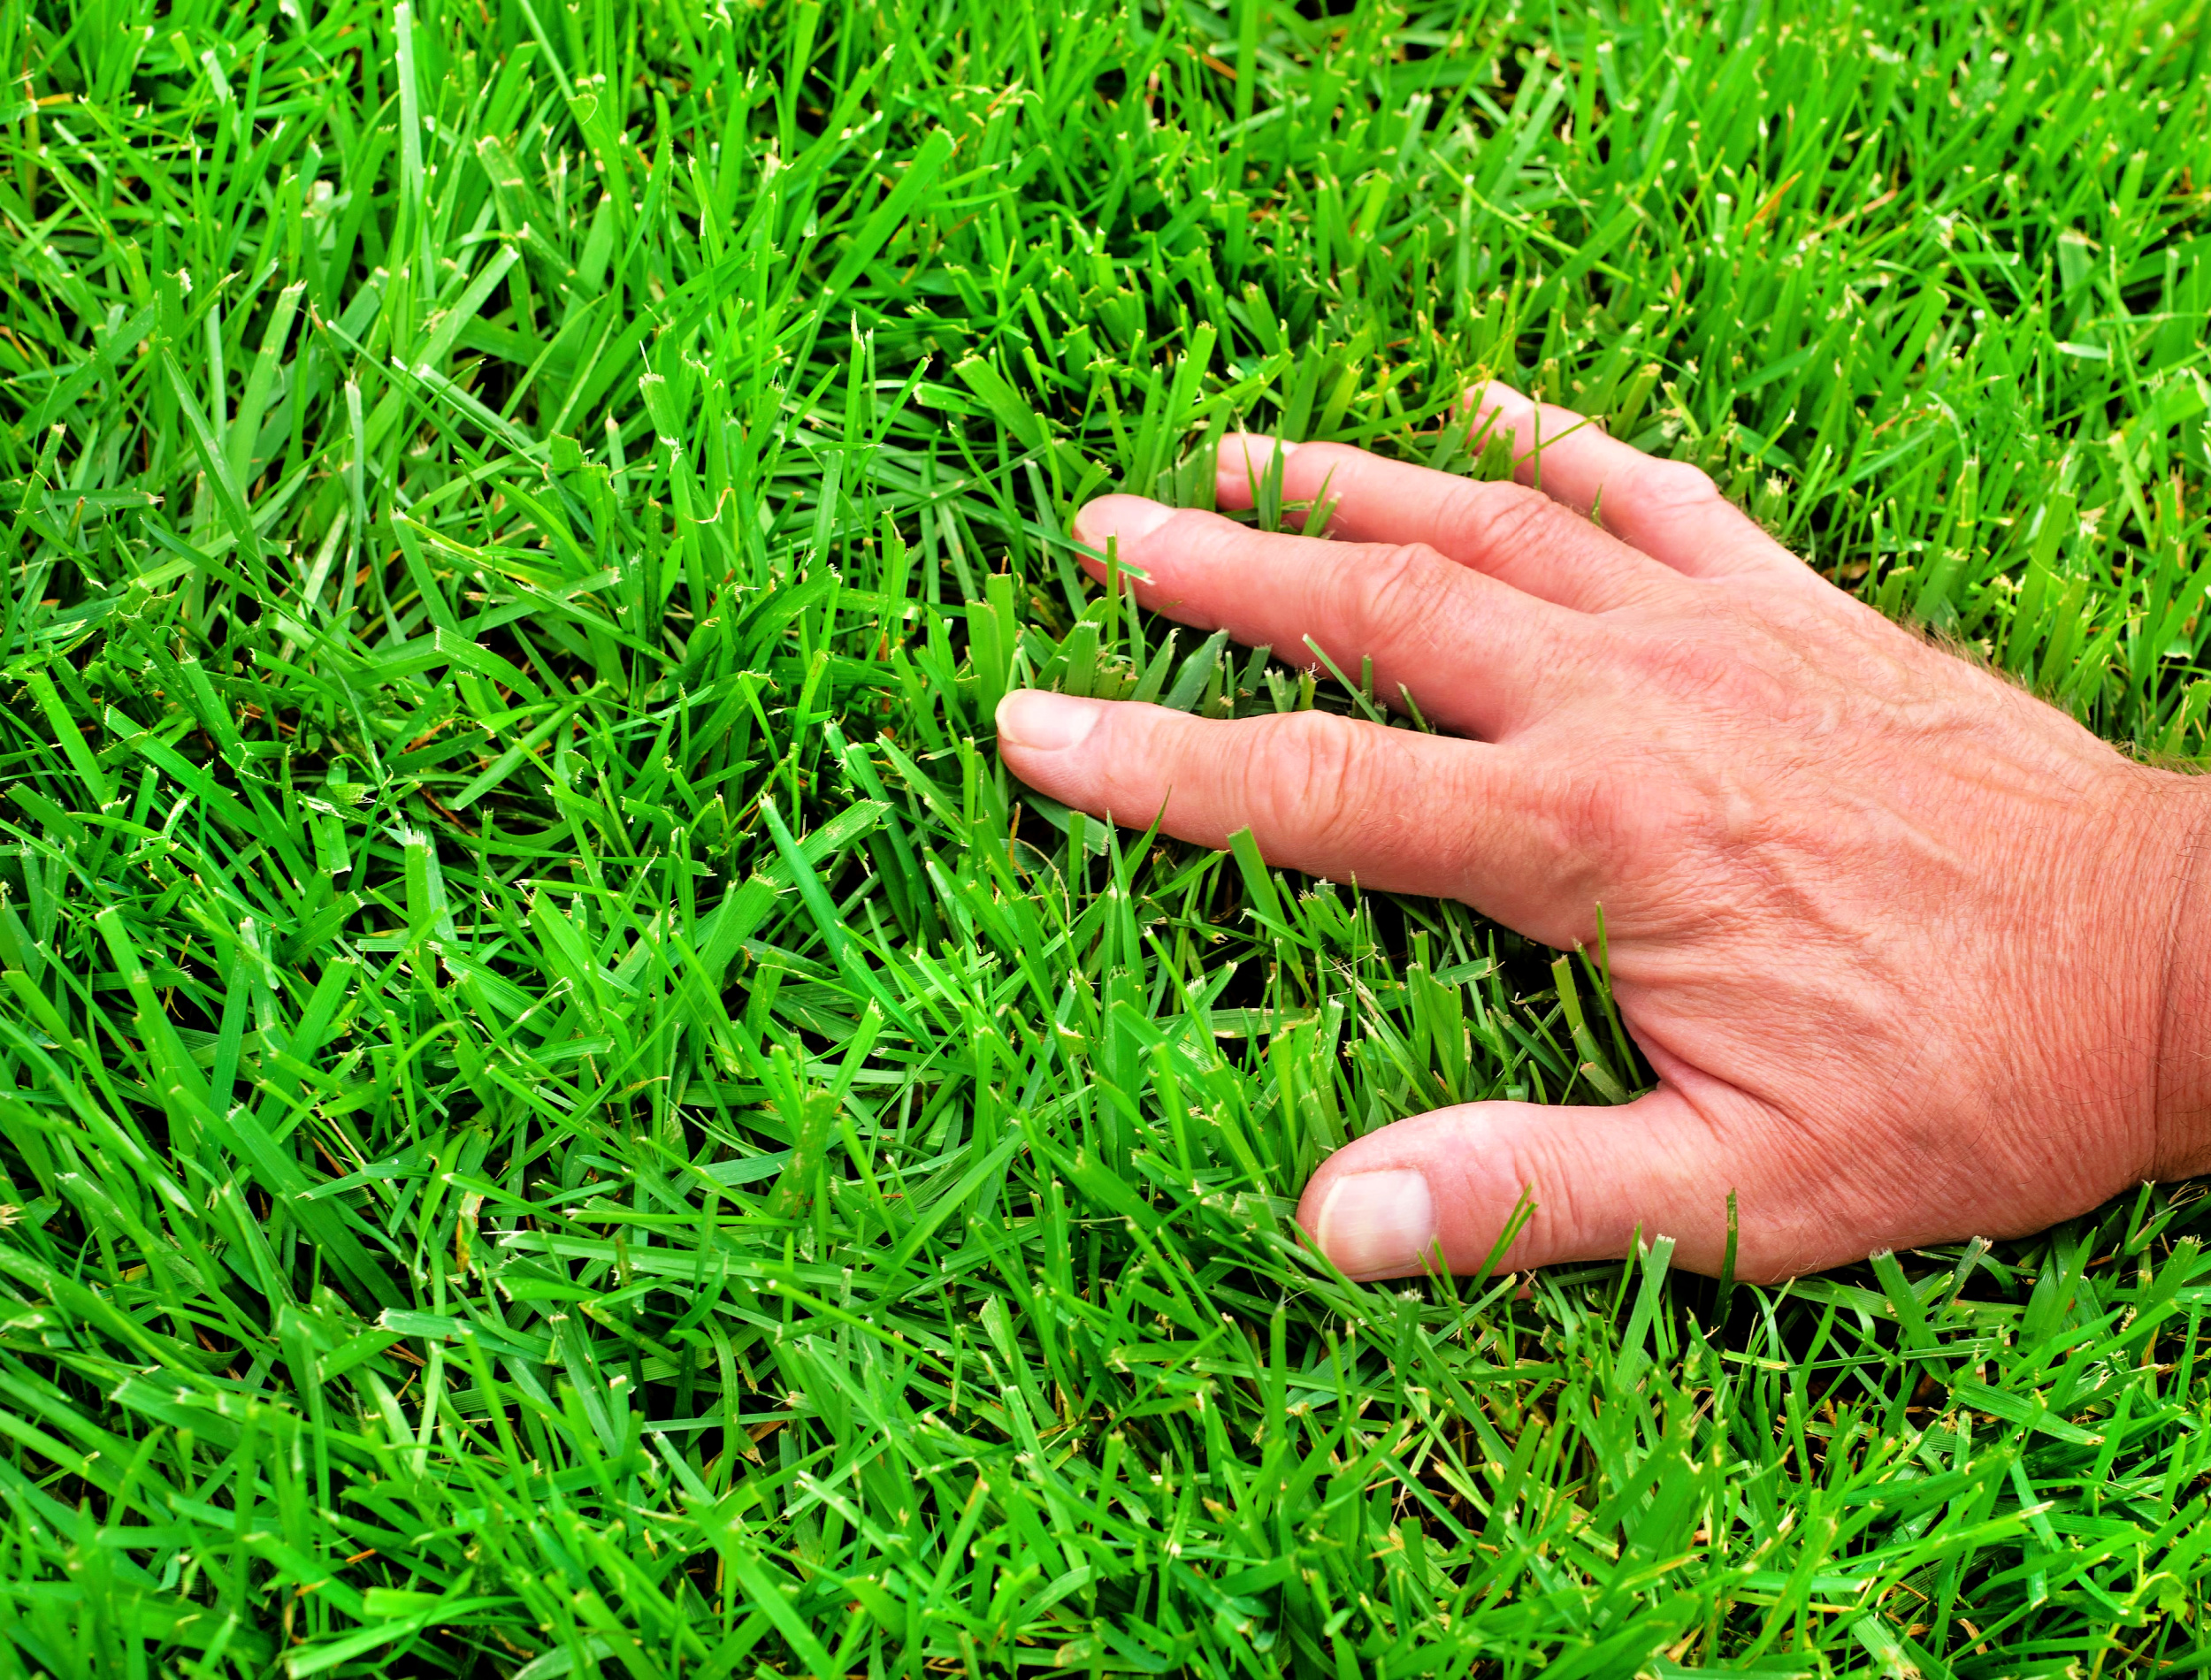grass: (5, 7, 990, 1680)
